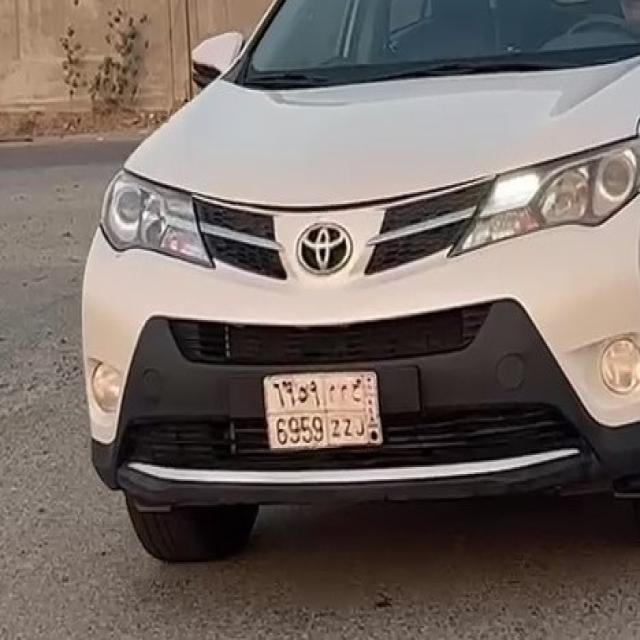Car-plate: (251, 368, 395, 464)
